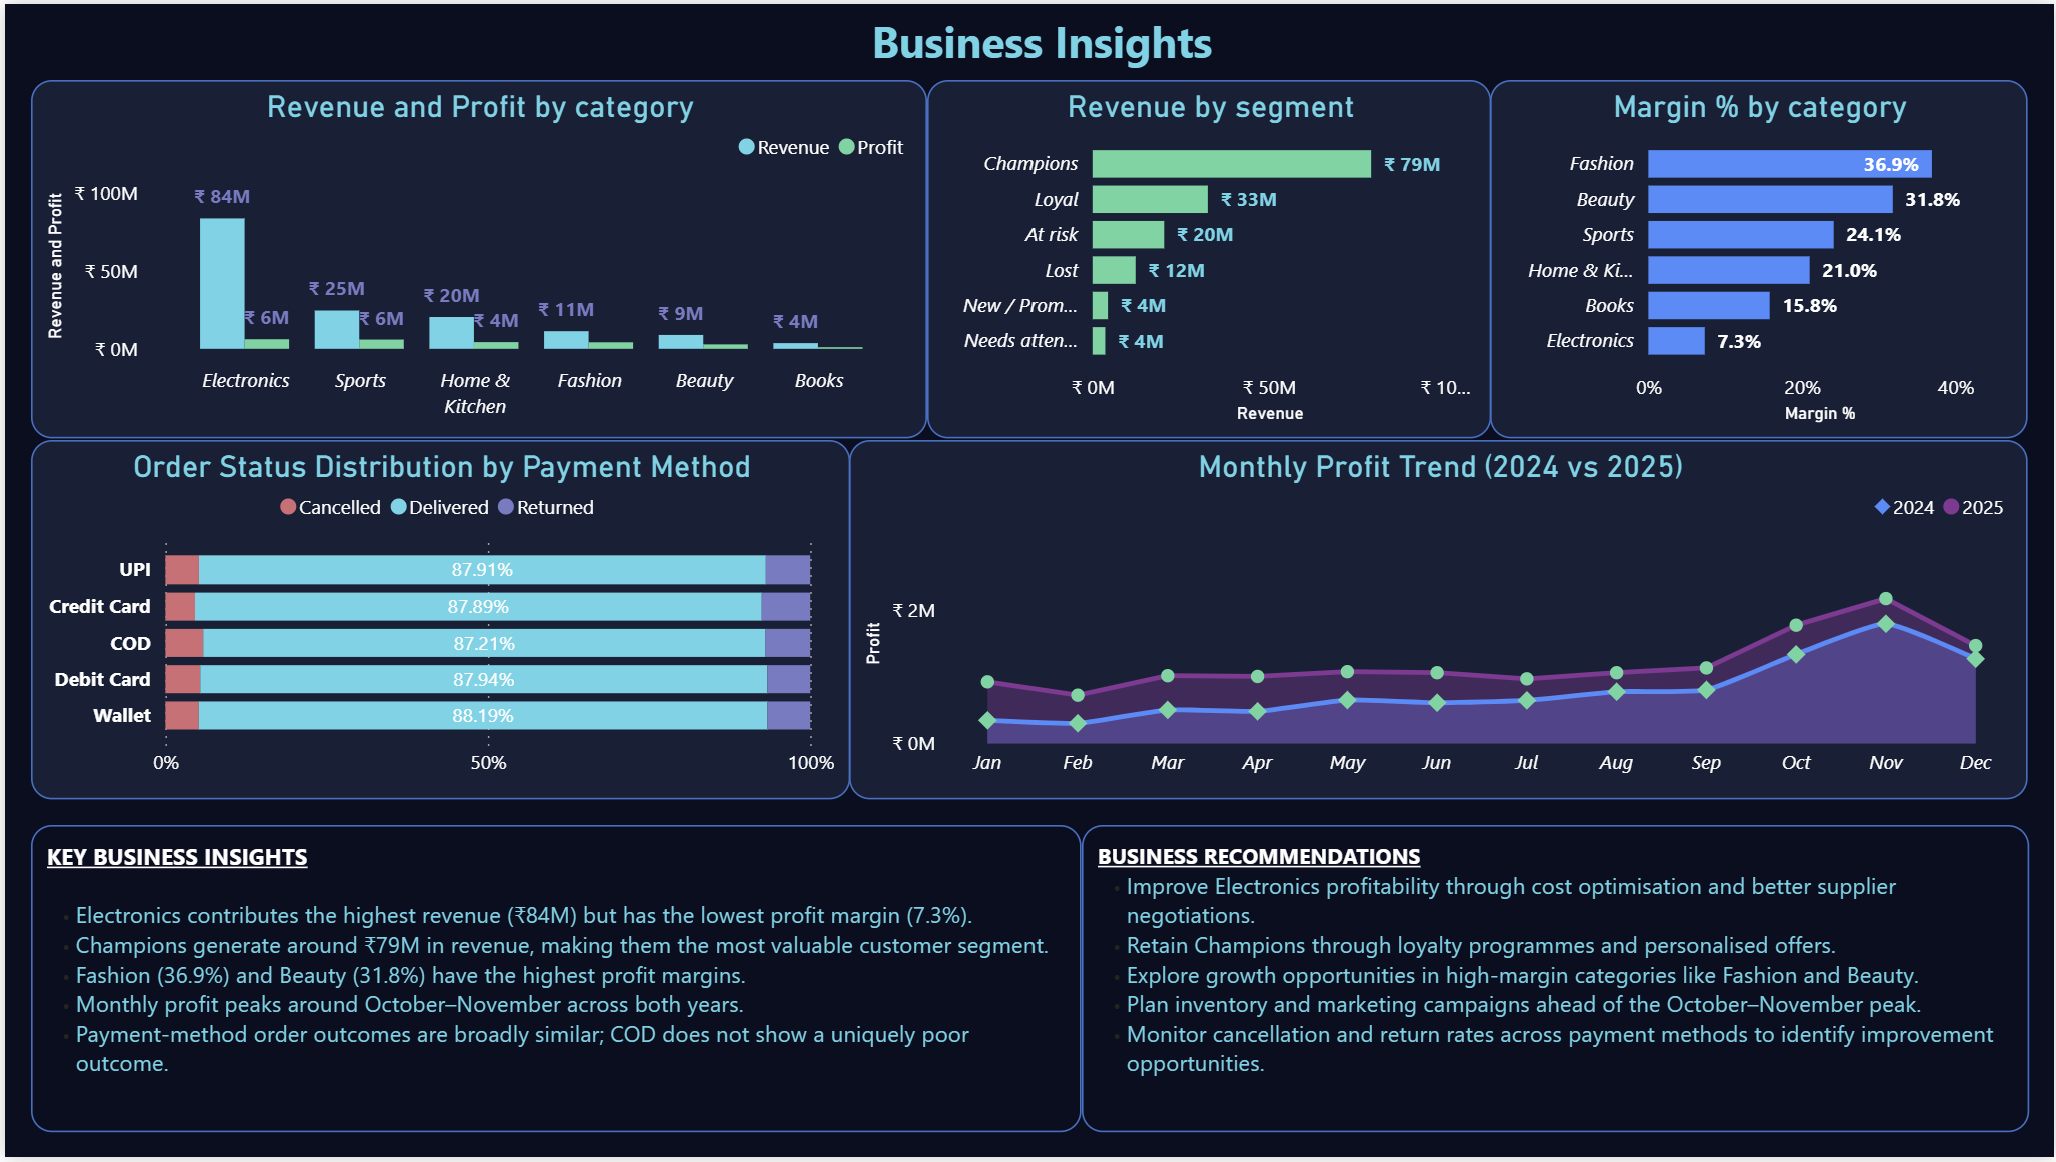

The page's visual inventory and layout, read from the dashboard file:
{"tool":"powerbi","page":{"name":"BUsiness insights","canvas":[1280,720],"ordinal":1},"visuals":[{"type":"clusteredColumnChart","fields":{"Category":["cleaned_products.category"],"Y":["cleaned_orderitems.Revenue","cleaned_orderitems.Profit"]},"box":[16,48,560,224],"z":0},{"type":"clusteredBarChart","fields":{"Category":["cleaned_products.category"],"Y":["cleaned_orderitems.Margin %"]},"box":[928,48,336,224],"z":1000},{"type":"clusteredBarChart","fields":{"Category":["rfm_segments.segment"],"Y":["cleaned_orderitems.Revenue"]},"box":[576,48,352,224],"z":2000},{"type":"lineChart","title":"Monthly Profit Trend (2024 vs 2025)","fields":{"Category":["Date.Month"],"Y":["cleaned_orderitems.Profit"],"Series":["Date.Year"]},"box":[528,272,736,224],"z":3000},{"type":"hundredPercentStackedBarChart","title":"Order Status Distribution by Payment Method","fields":{"Category":["cleaned_orders.payment_method"],"Y":["Count(cleaned_orderitems.order_id)"],"Series":["cleaned_orders.status"]},"box":[16,272,512,224],"z":4000},{"type":"textbox","box":[64,0,1168,48],"z":5000},{"type":"textbox","box":[16,512,656,192],"z":6000},{"type":"textbox","box":[672,512,592,192],"z":6001}]}

Visuals, with their boxes in screenshot pixels (x1, y1, x2, y2), scaled from the page's 1280x720 canvas onto the 2056x1162 screenshot:
clusteredColumnChart - cleaned_products.category x cleaned_orderitems.Revenue: x1=26 y1=77 x2=925 y2=439
clusteredBarChart - cleaned_products.category x cleaned_orderitems.Margin %: x1=1491 y1=77 x2=2030 y2=439
clusteredBarChart - rfm_segments.segment x cleaned_orderitems.Revenue: x1=925 y1=77 x2=1491 y2=439
"Monthly Profit Trend (2024 vs 2025)" lineChart: x1=848 y1=439 x2=2030 y2=800
"Order Status Distribution by Payment Method" hundredPercentStackedBarChart: x1=26 y1=439 x2=848 y2=800
textbox: x1=103 y1=0 x2=1979 y2=77
textbox: x1=26 y1=826 x2=1079 y2=1136
textbox: x1=1079 y1=826 x2=2030 y2=1136
